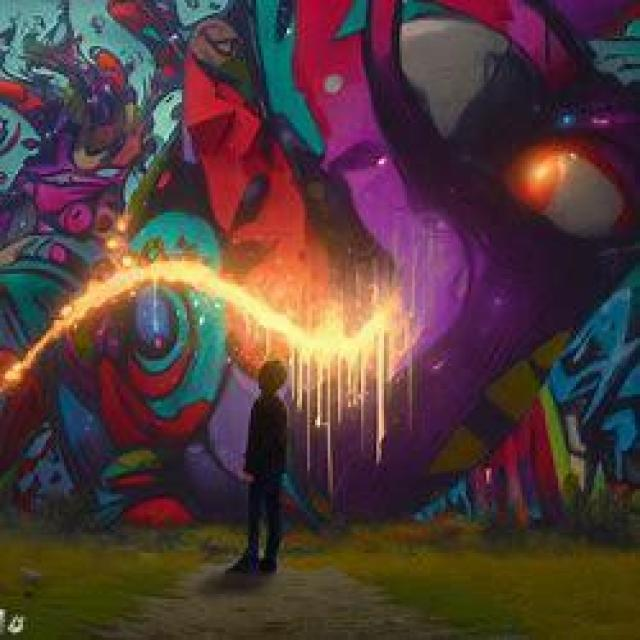nonspitting: (0, 0, 640, 519)
